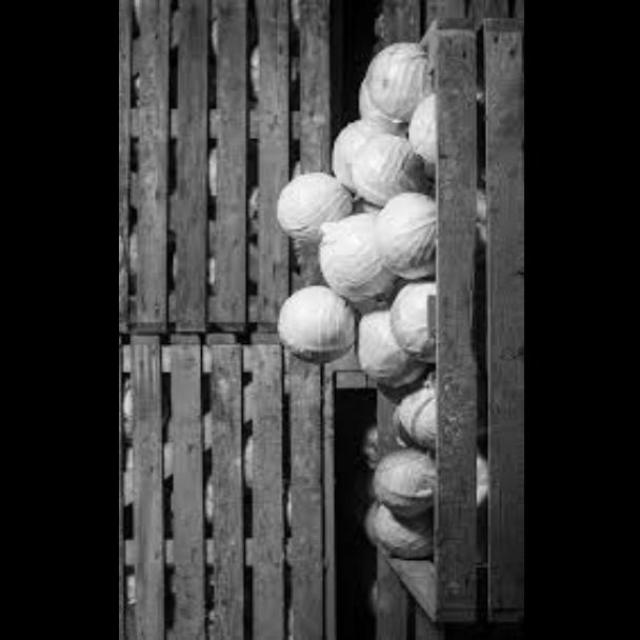cai bap: (310, 106, 410, 218), (263, 279, 352, 372), (309, 215, 392, 301), (344, 53, 424, 141), (371, 198, 437, 299), (284, 168, 348, 264), (347, 320, 419, 402), (351, 496, 438, 558), (363, 440, 433, 507), (377, 389, 436, 466)
